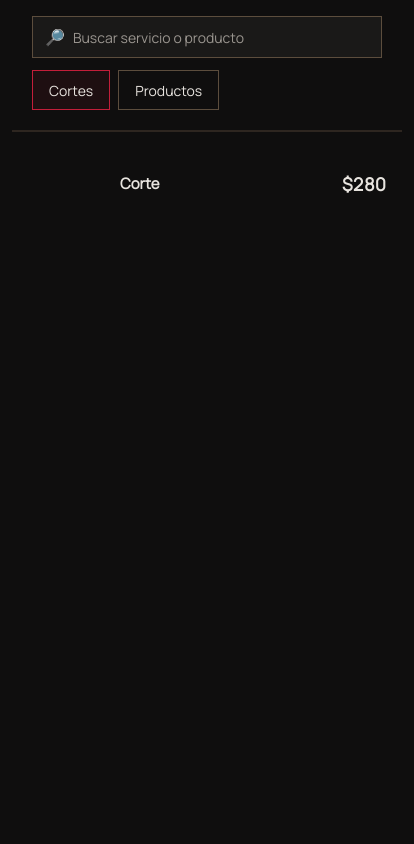
Test: CheckoutPage — aviso del canal en el tema catalog › un aviso catalog recarga grid y overlay en la MISMA visita, sin re-preciar el carrito
Click the text "Corte". click: (140, 183)
box: [120,173,160,194]
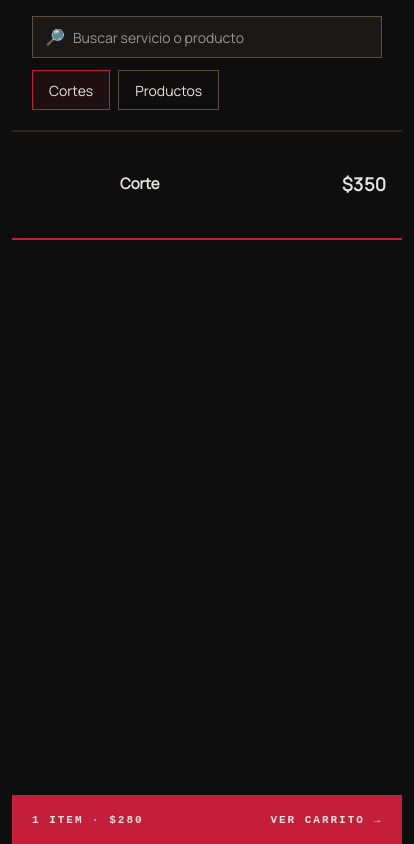
Check: the text "$350" is shown, box [342,170,386,198]
